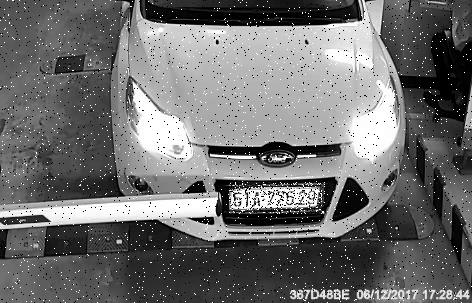License-plate: (231, 183, 327, 215)
